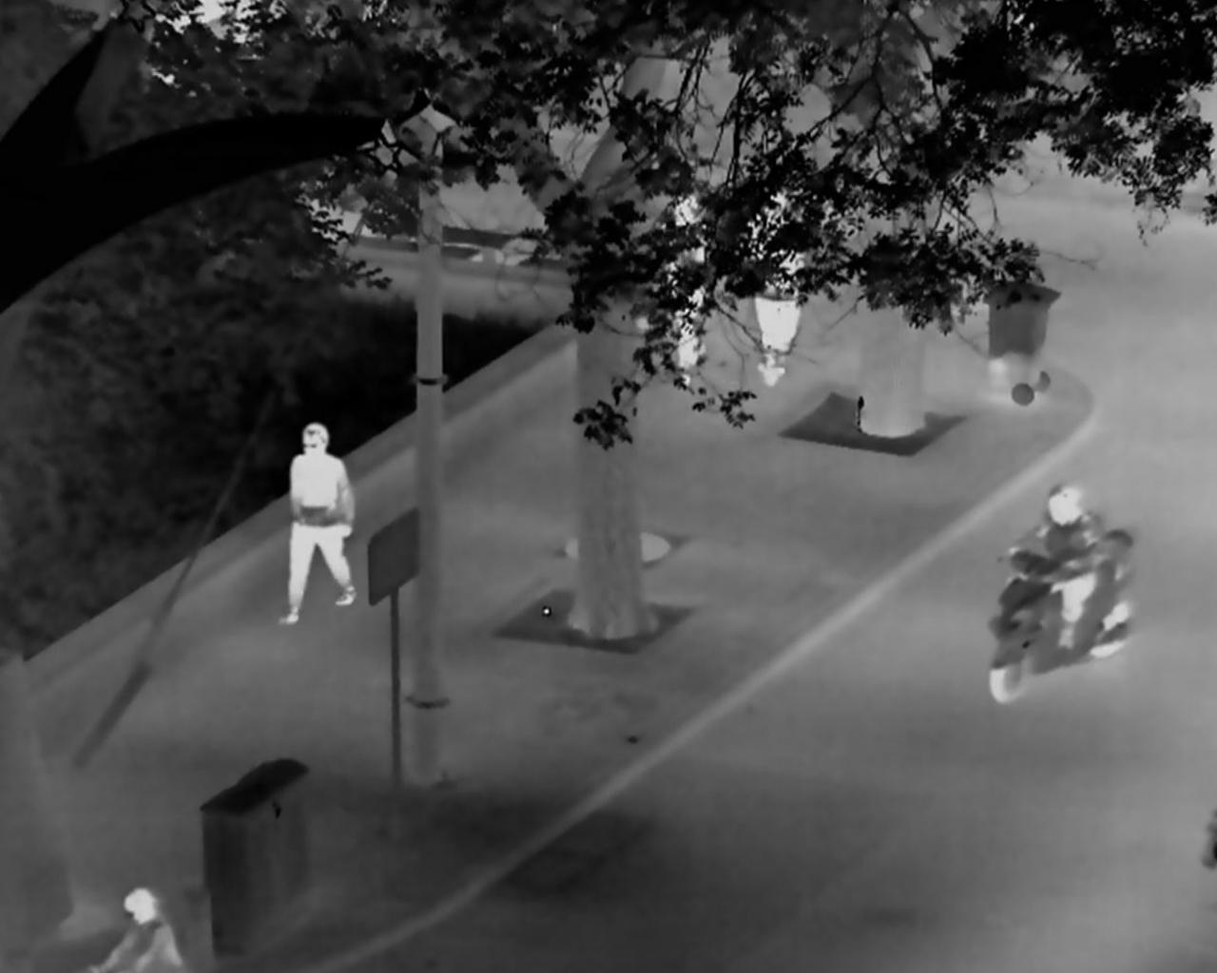person: (1009, 483, 1110, 651), (279, 423, 360, 623), (739, 186, 805, 389), (657, 188, 705, 388), (86, 887, 191, 973)
